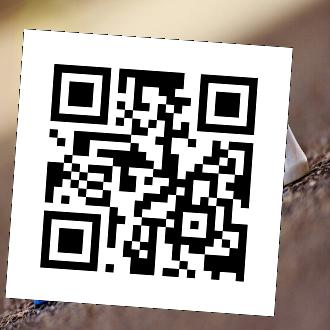qr_code: (5, 29, 292, 316)
